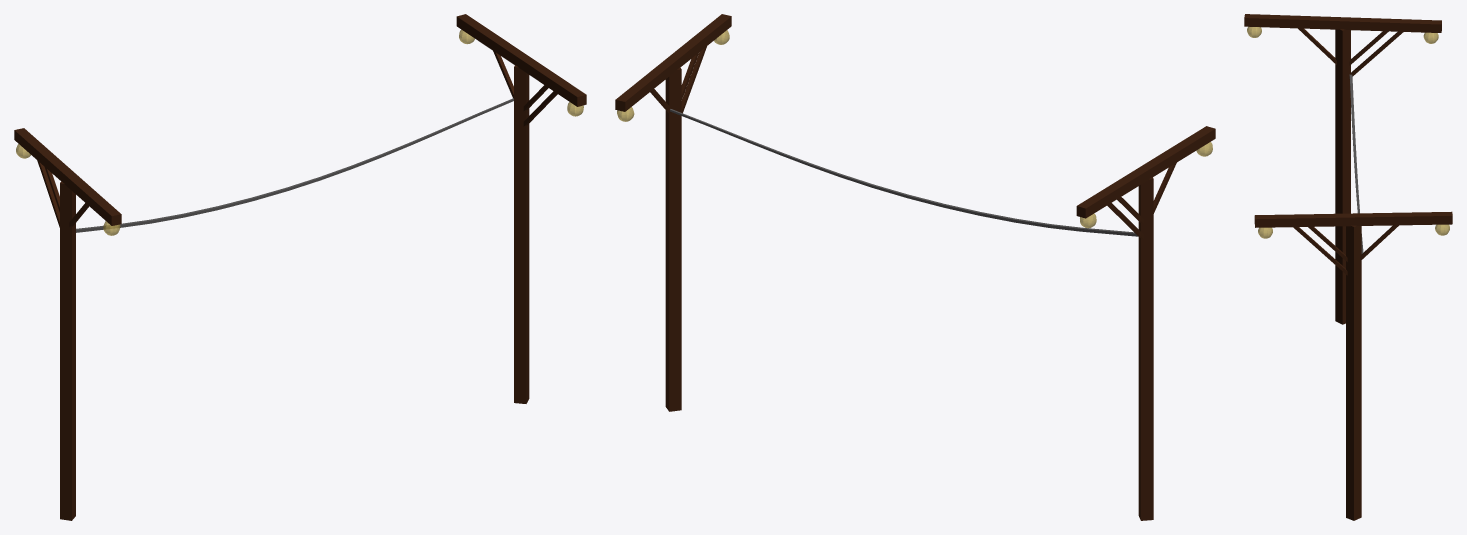
File: light.fbx
The picture shows the model from 3 angles, left to right: view 1: azimuth 30°, elevation 25°; view 2: azimuth 150°, elevation 25°; view 3: azimuth 270°, elevation 25°; orthographic projection. The views are drawn at different scales.
Parts seen in each view (by area): view 1: Cylinder.001, Cylinder, Cube, Cube.004, Cube.008; view 2: Cylinder, Cylinder.001, Cube.004, Cube, Cube.008; view 3: Cylinder, Cylinder.001, Cube, Cube.004, Cube.008, Cube.003, Cube.007.
Boxes of the visible parts, x1,y1,x2,y2 form: Cylinder.001: (60,181,75,520); Cylinder: (514,65,529,403); Cube: (456,14,586,106); Cube.004: (14,128,121,225); Cube.008: (76,98,513,232); Cylinder: (665,67,681,411); Cylinder.001: (1138,177,1153,520); Cube.004: (1076,126,1215,218); Cube: (615,14,731,111); Cube.008: (670,109,1138,236); Cylinder: (1346,225,1361,520); Cylinder.001: (1335,29,1350,324); Cube: (1254,211,1452,227); Cube.004: (1244,14,1441,32); Cube.008: (1349,74,1363,253); Cube.003: (1293,227,1347,275); Cube.007: (1349,31,1403,79).
Bounding box in the file's own units: 311 × 212 × 132.
